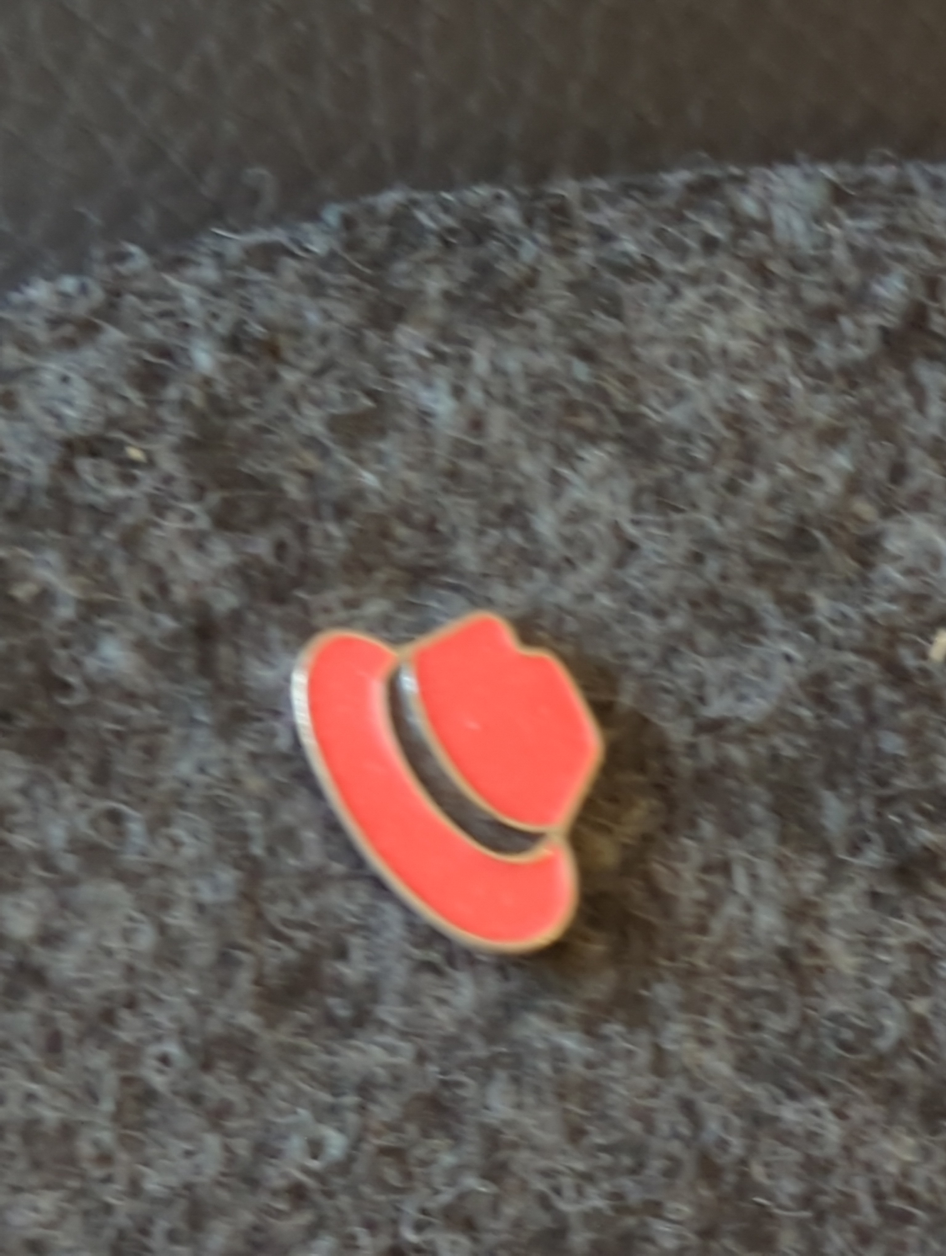Red-Hat: (166, 484, 727, 1056)
